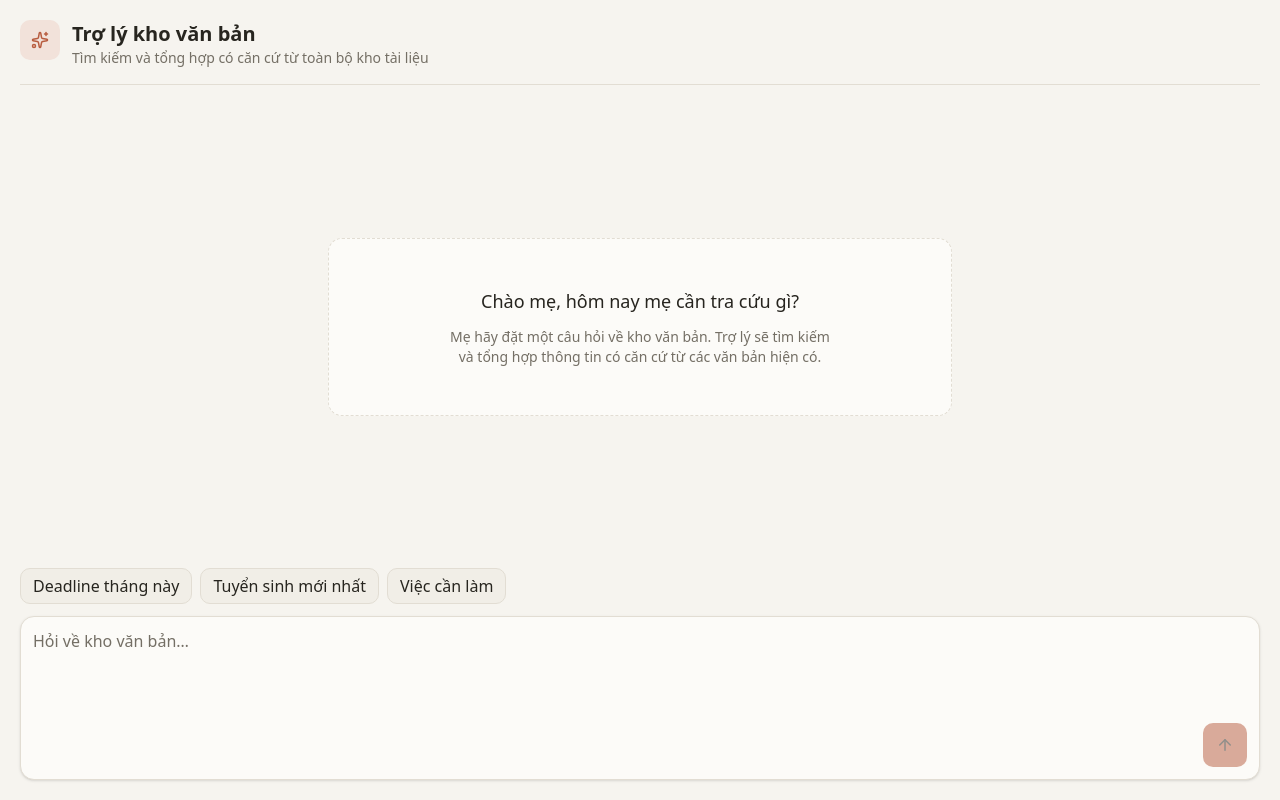
ArchiveAssistantPanel › 6. status: 'insufficient_evidence' renders the abstention state and NO citations
In the text box named "Câu hỏi": (640, 669) [33, 629, 1247, 709], type "Câu hỏi không có căn cứ?"
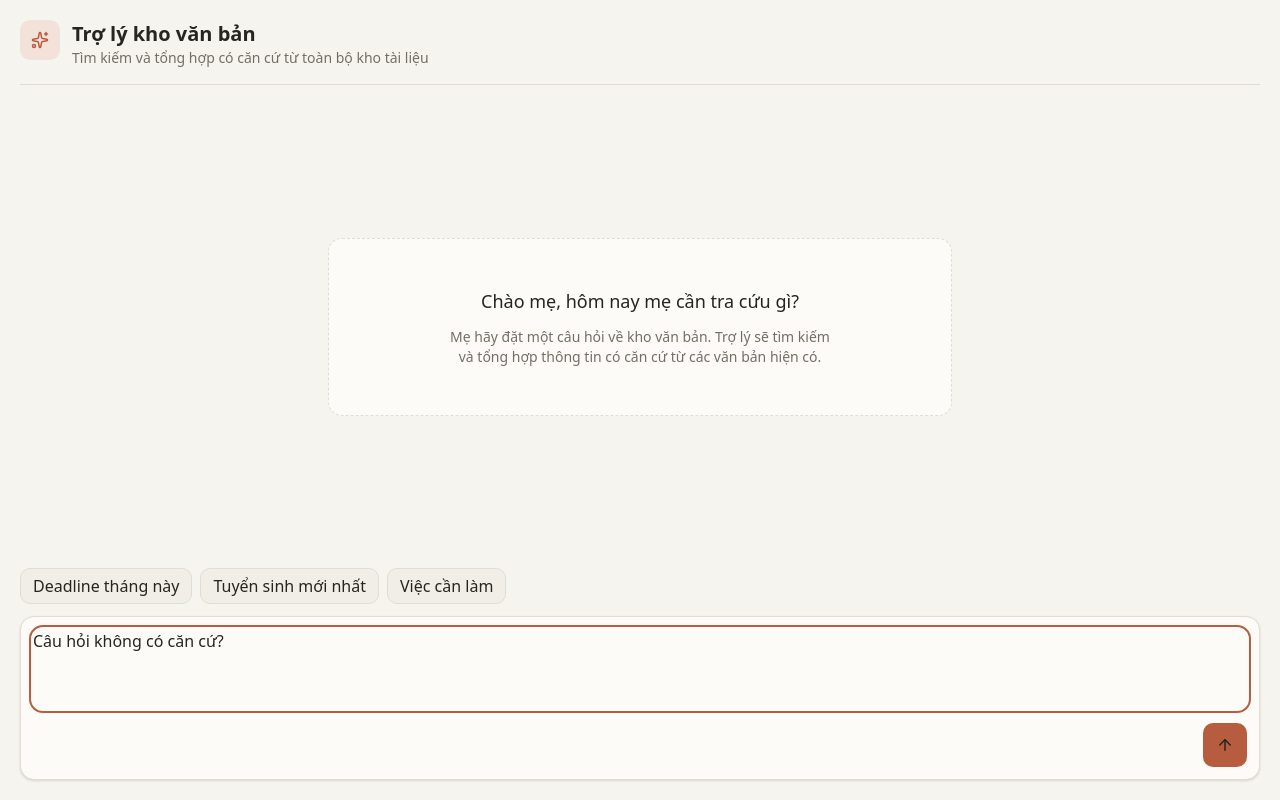
Click the button named "Gửi câu hỏi": (1225, 745) [1203, 723, 1247, 767]
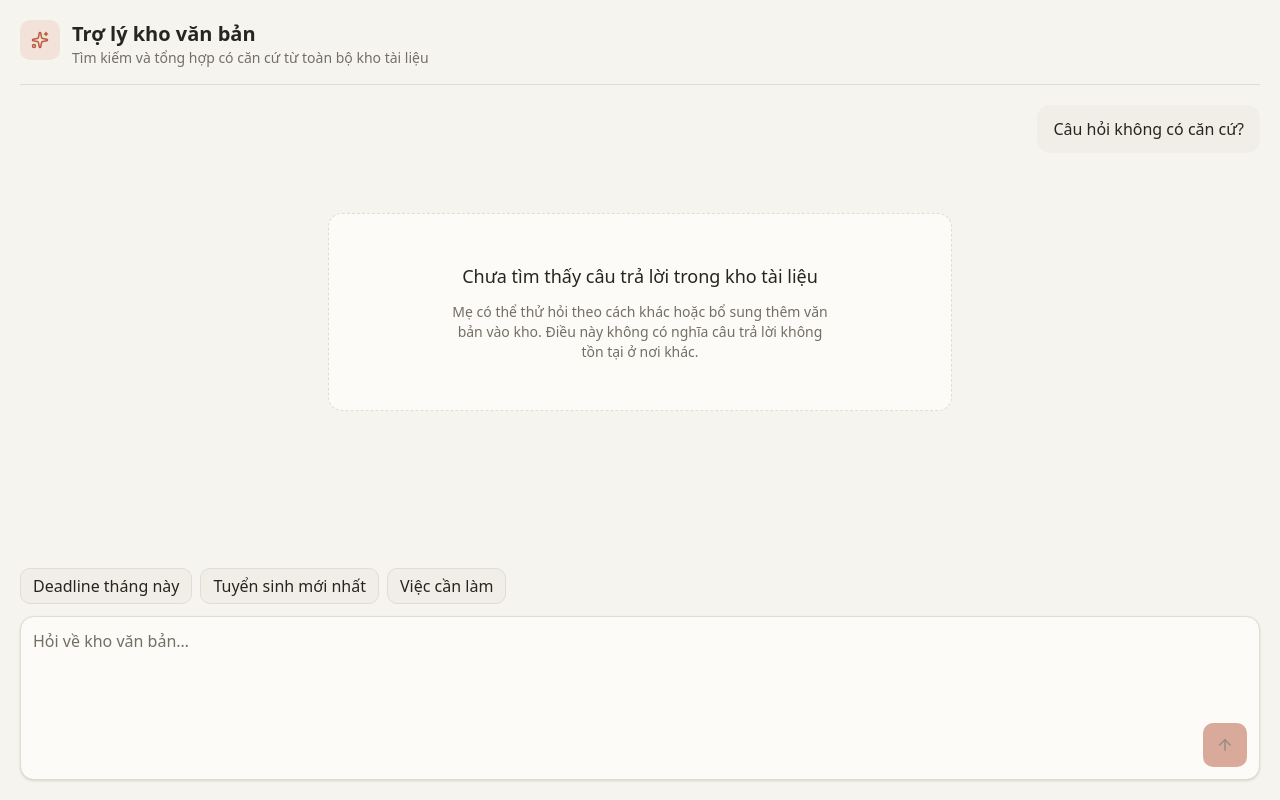
Expected: the element with test id "assistant-insufficient-evidence" is shown, [328, 213, 952, 411]
Expected: the text "Chưa tìm thấy câu trả lời trong kho tài liệu" is shown, [462, 262, 818, 290]
